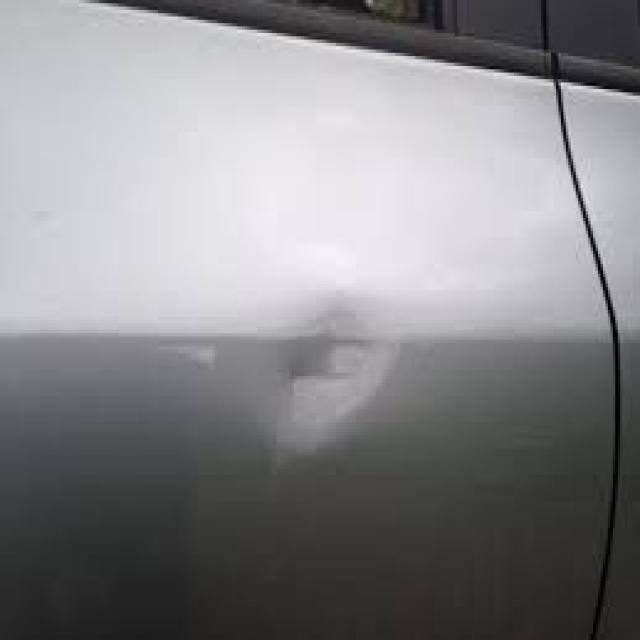Dent: (273, 267, 436, 477)
